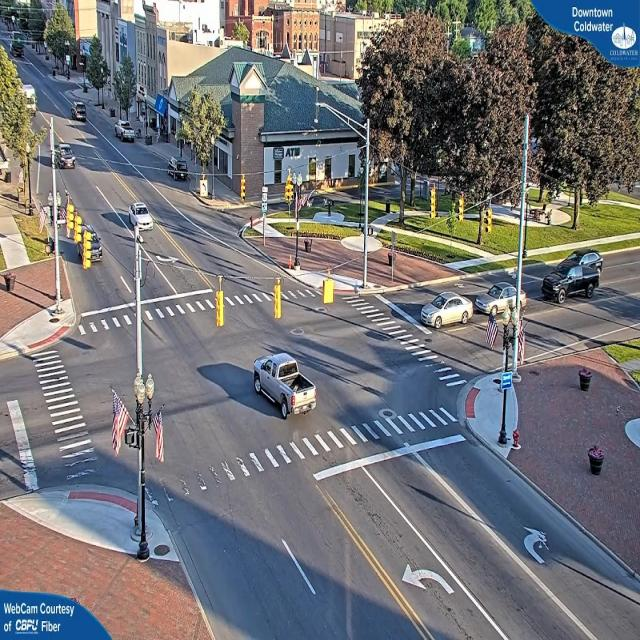car: (253, 350, 318, 421), (552, 250, 602, 299), (421, 291, 476, 331), (476, 281, 525, 319), (80, 228, 102, 266), (132, 204, 153, 230), (55, 147, 76, 170), (116, 124, 136, 143), (69, 101, 85, 123)
